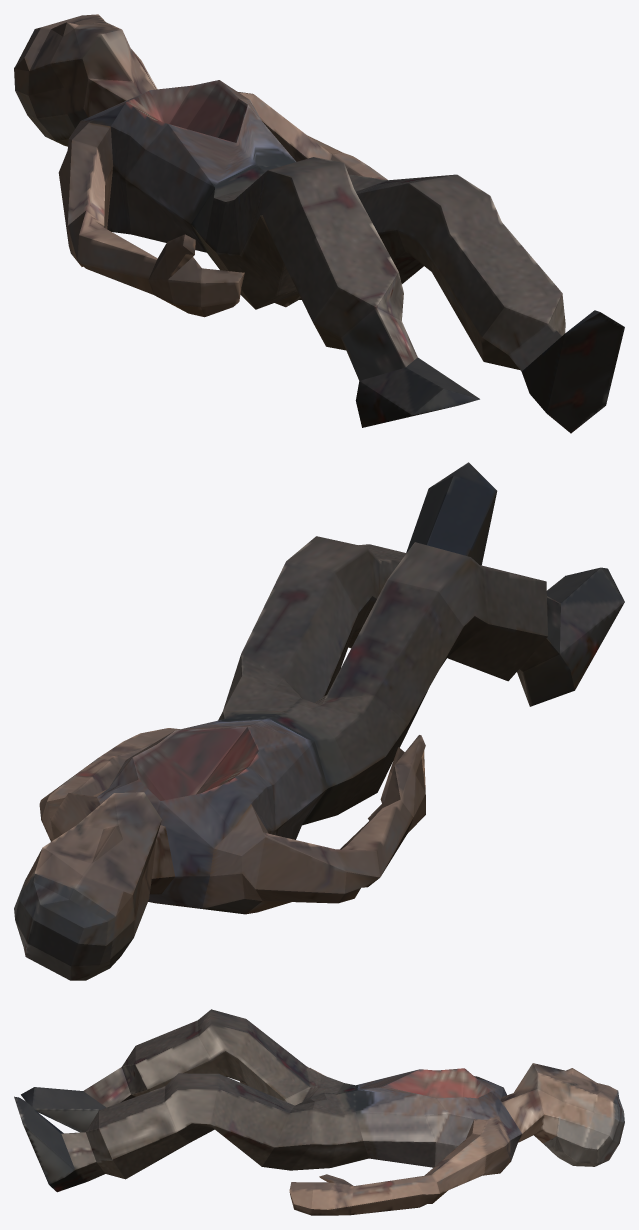
The model's file is SM_CorpseHuman.fbx.
3 views of the same model, one above another, from view 1: azimuth 30°, elevation 25°; view 2: azimuth 150°, elevation 25°; view 3: azimuth 270°, elevation 25° (orthographic). The views are drawn at different scales.
Parts seen in each view (by area): view 1: SM_ShopKeeper3; view 2: SM_ShopKeeper3; view 3: SM_ShopKeeper3.
Part boxes in pixels (x1=…): SM_ShopKeeper3: x1=14, y1=14, x2=624, y2=433; SM_ShopKeeper3: x1=14, y1=462, x2=624, y2=980; SM_ShopKeeper3: x1=14, y1=1009, x2=624, y2=1215.
Size of the model in its own units: 17.53 by 10.92 by 45.08.
